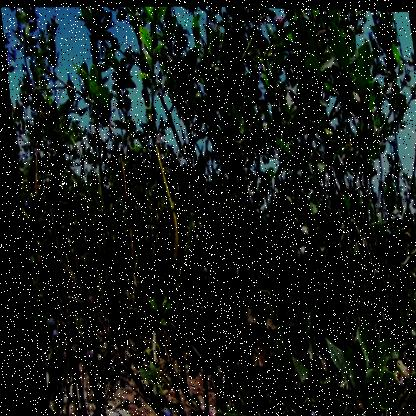intermediate: (274, 16, 287, 33), (196, 404, 212, 416)
mature: (249, 22, 264, 43), (149, 404, 170, 416)
young: (347, 85, 366, 114), (284, 244, 310, 264), (389, 359, 404, 381), (296, 222, 310, 243), (388, 365, 398, 389)
